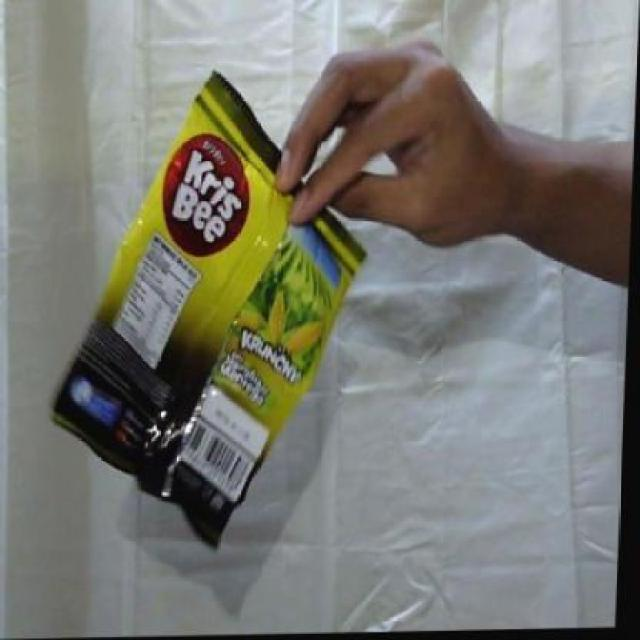Plastic: (39, 63, 373, 556)
